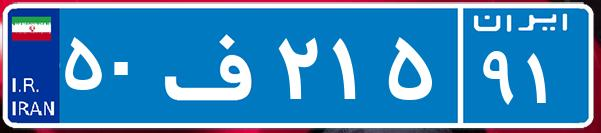0: (110, 28, 158, 105)
1: (330, 28, 385, 110), (525, 38, 570, 115)
2: (273, 28, 330, 110)
5: (385, 28, 445, 110), (57, 26, 110, 107)
9: (475, 38, 525, 113)
ف: (158, 15, 273, 115)
